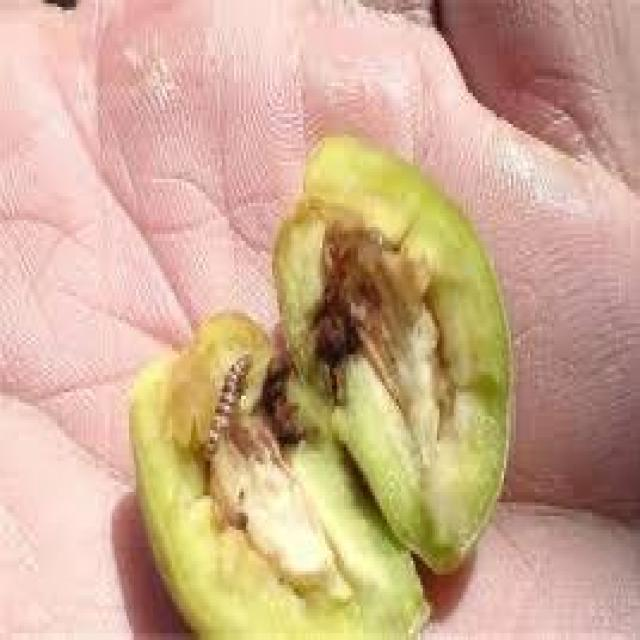Anthracnose: (132, 138, 508, 636)
